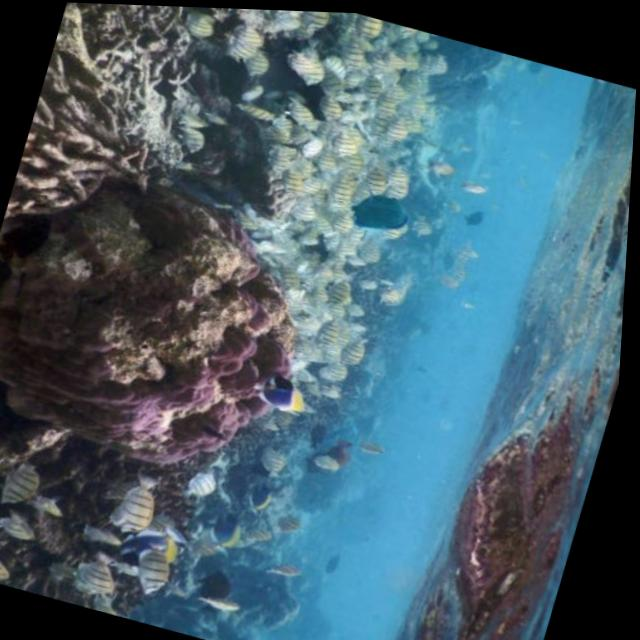Dead Coral: (0, 154, 309, 488), (5, 101, 178, 250), (43, 1, 246, 121)
